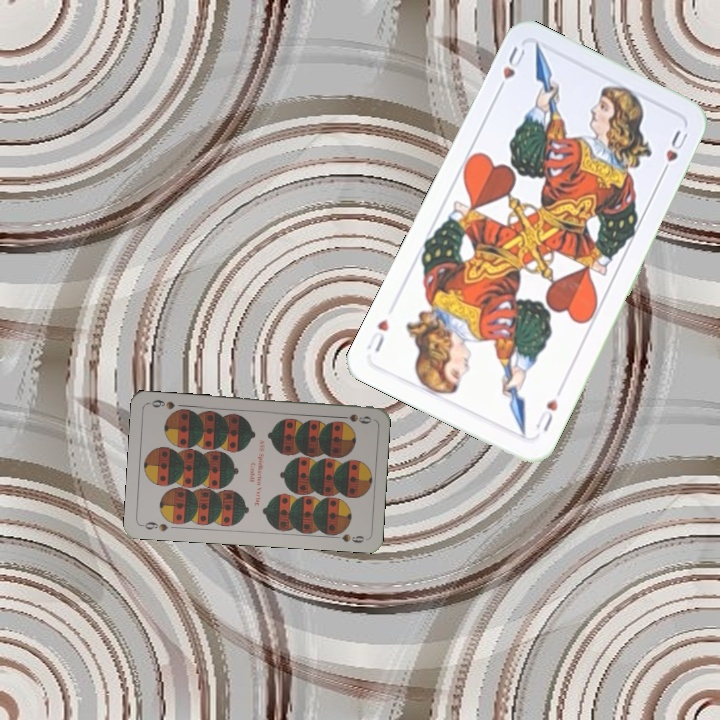HU: (492, 42, 528, 97), (531, 394, 561, 435)
S9: (333, 410, 373, 426), (138, 518, 171, 534)
